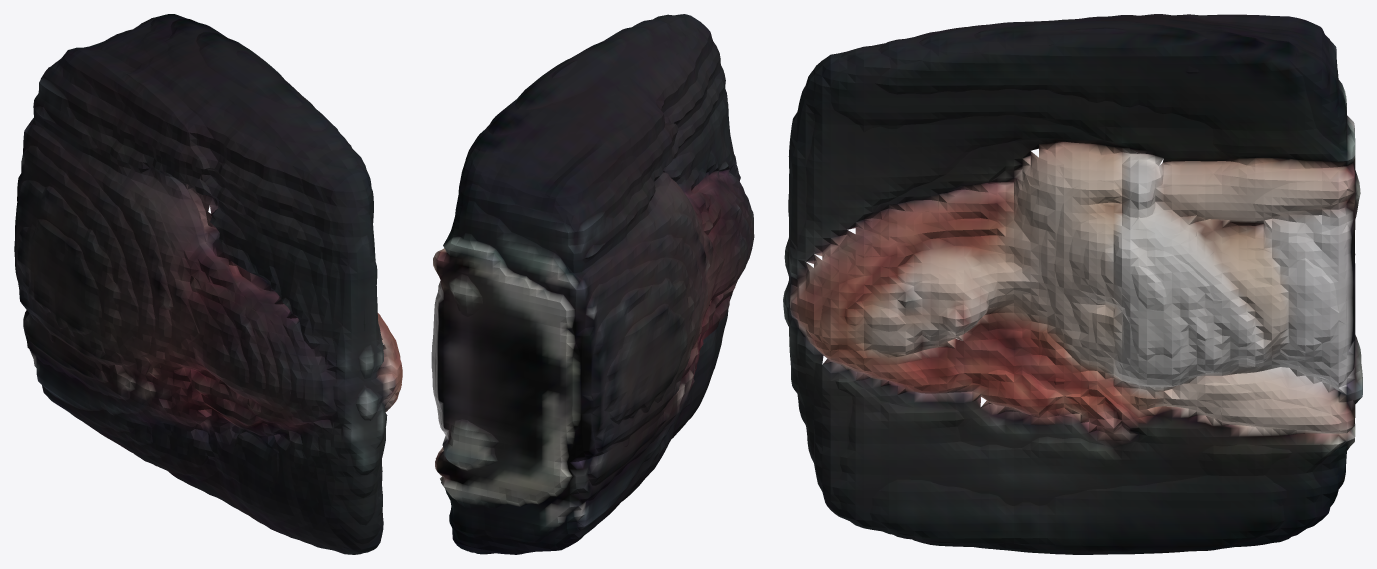
Rendered from alice.glb.
The picture shows the model from 3 angles, left to right: view 1: azimuth 30°, elevation 25°; view 2: azimuth 150°, elevation 25°; view 3: azimuth 270°, elevation 25°; orthographic projection. The views are drawn at different scales.
Parts seen in each view (by area): view 1: geometry_0; view 2: geometry_0; view 3: geometry_0.
Part boxes in pixels (box(x1,y1,x2,y2)): geometry_0: box(14, 14, 402, 554); geometry_0: box(431, 14, 754, 554); geometry_0: box(783, 14, 1362, 554).
Bounding box in the file's own units: 0.4447 × 0.9423 × 0.954.
